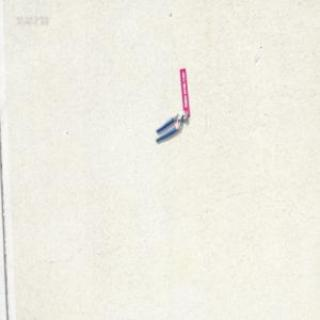LuggageTagtrack_idkeyframe: (178, 66, 189, 115)
Pliertrack_idkeyframe: (154, 109, 186, 142)
